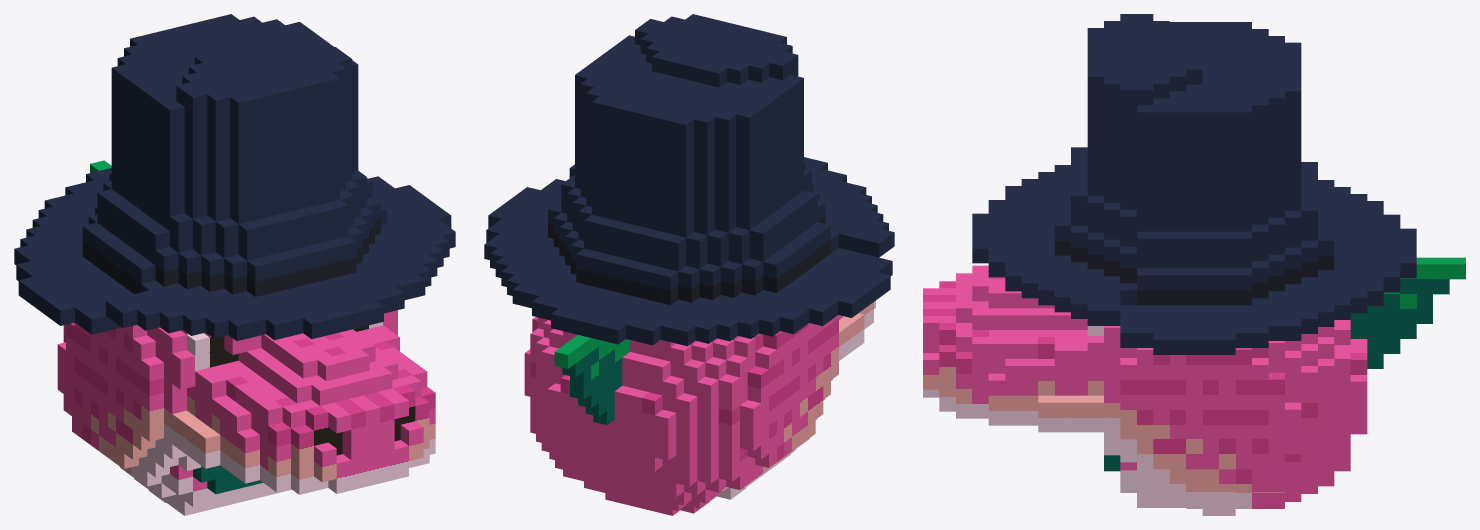
Rendered from top hat_3d glasses.gltf.
The picture shows the model from 3 angles, left to right: view 1: azimuth 30°, elevation 25°; view 2: azimuth 150°, elevation 25°; view 3: azimuth 270°, elevation 25°; orthographic projection. The views are drawn at different scales.
Visible parts, largest first — view 1: C53_H_TopH_CoolD_3D_RBShade-Mesh; view 2: C53_H_TopH_CoolD_3D_RBShade-Mesh; view 3: C53_H_TopH_CoolD_3D_RBShade-Mesh.
Boxes of the visible parts, left/top/right/bottom form: C53_H_TopH_CoolD_3D_RBShade-Mesh: left=14, top=14, right=455, bottom=515; C53_H_TopH_CoolD_3D_RBShade-Mesh: left=484, top=14, right=894, bottom=515; C53_H_TopH_CoolD_3D_RBShade-Mesh: left=923, top=14, right=1465, bottom=515.
Size of the model in its own units: 27 by 29 by 33.
1 material, 1 textured.
